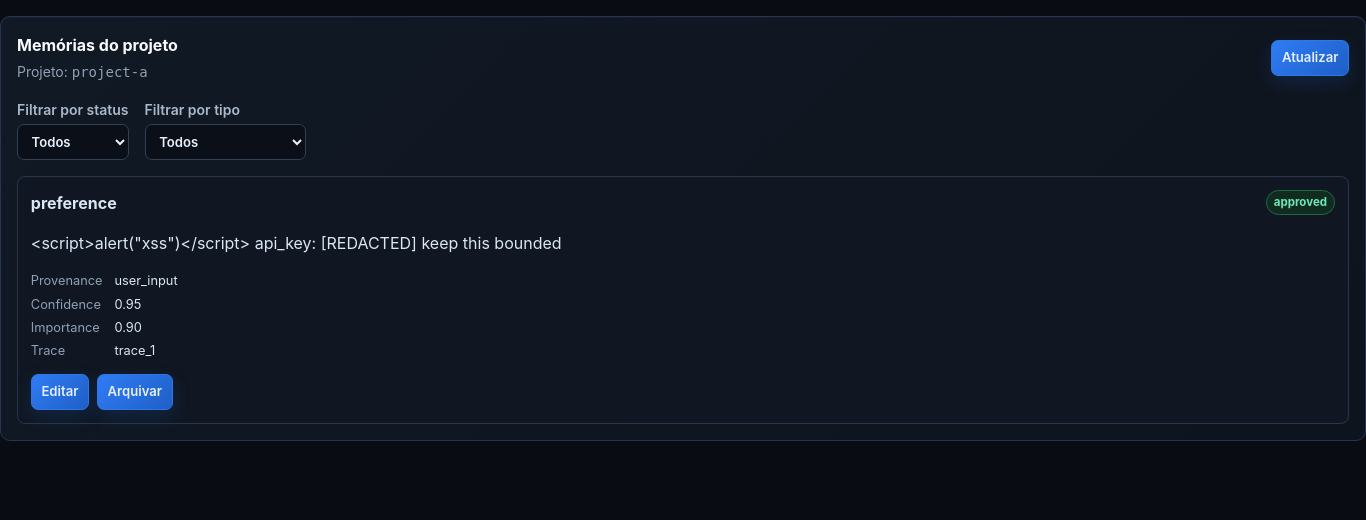
Test: Memory UI contract PR-132 › keeps the card state and exposes a visible version conflict after a failed mutation
The image size is (1366, 520).
Check: the text "approved" is shown, box x1=1266 y1=190 x2=1335 y2=215
Click the button "Arquivar" at (135, 392), box x1=97 y1=374 x2=173 y2=410
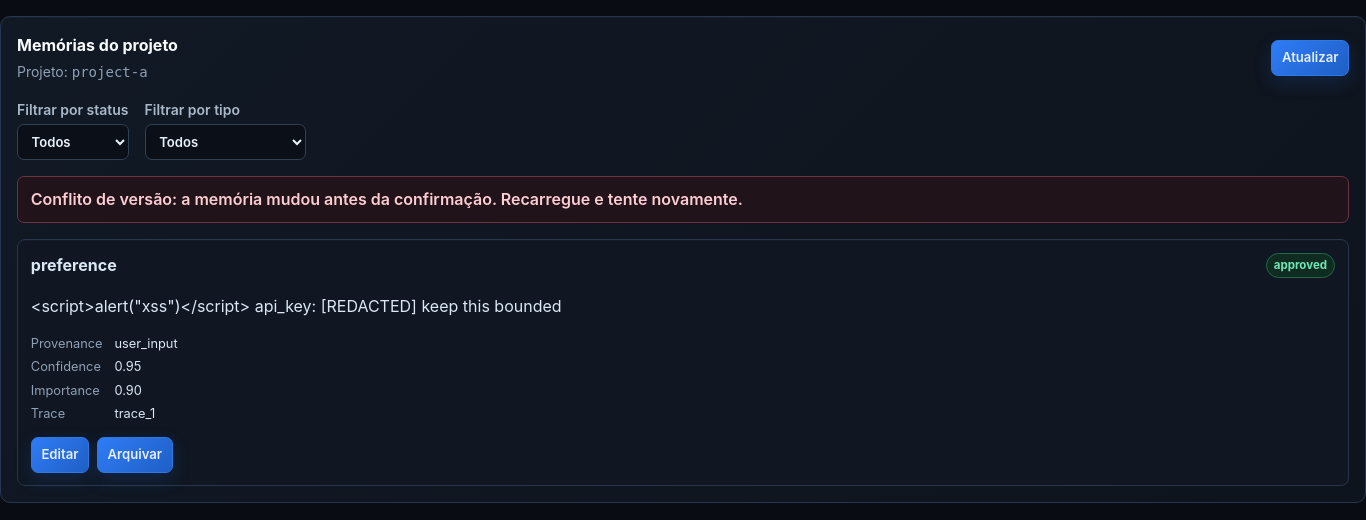
Check: the text "approved" is shown, box x1=1266 y1=253 x2=1335 y2=278
Check: the message shows "Conflito de versão", box x1=31 y1=189 x2=743 y2=209
